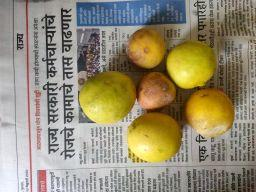lemon: (79, 69, 136, 124), (126, 113, 182, 163), (167, 39, 217, 90), (184, 88, 234, 138), (125, 27, 167, 70), (136, 71, 178, 111)
